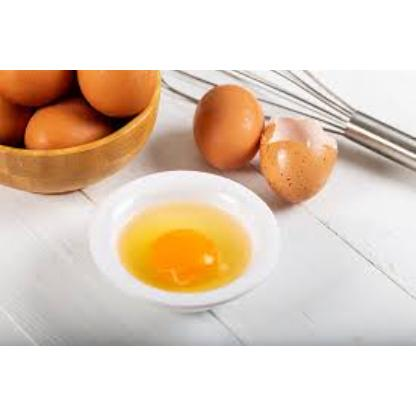egg: (187, 75, 268, 178), (18, 94, 118, 163), (71, 56, 160, 118)
